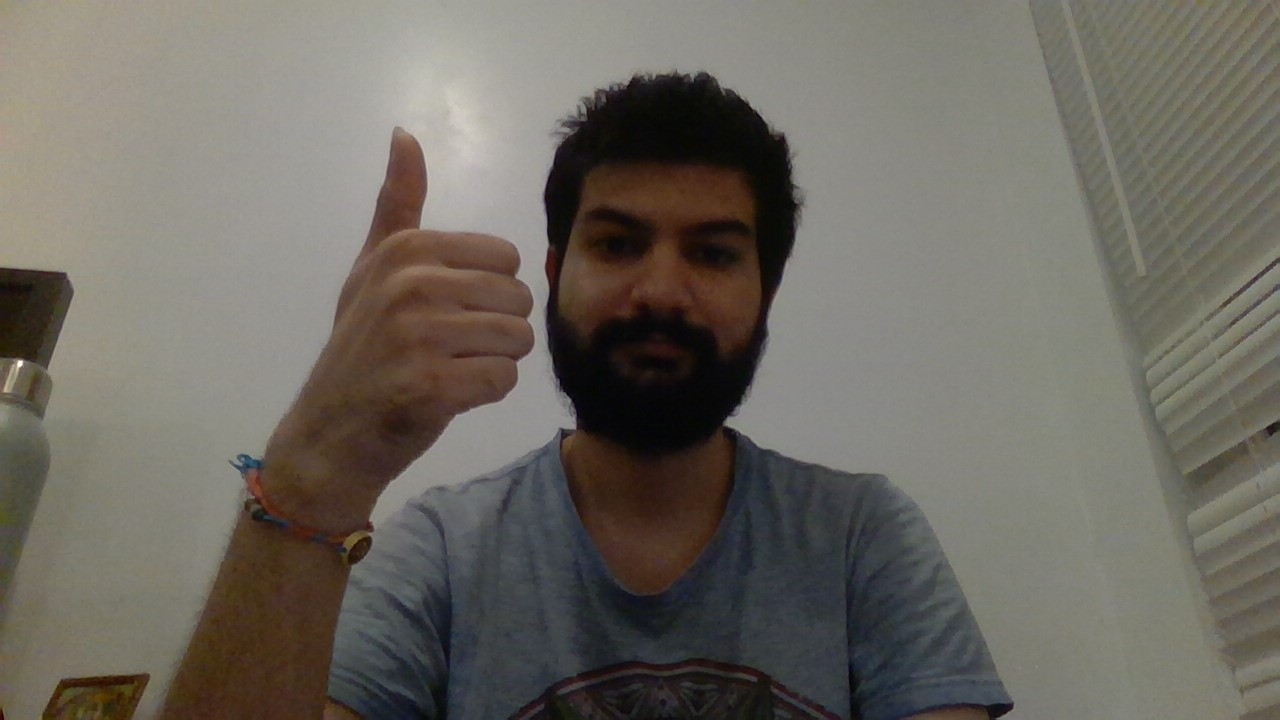up: (309, 114, 541, 420)
